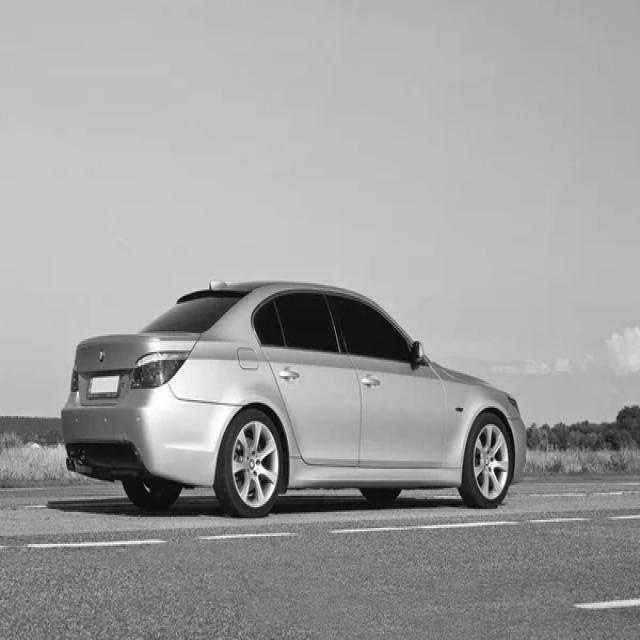Car: (61, 282, 527, 518)
